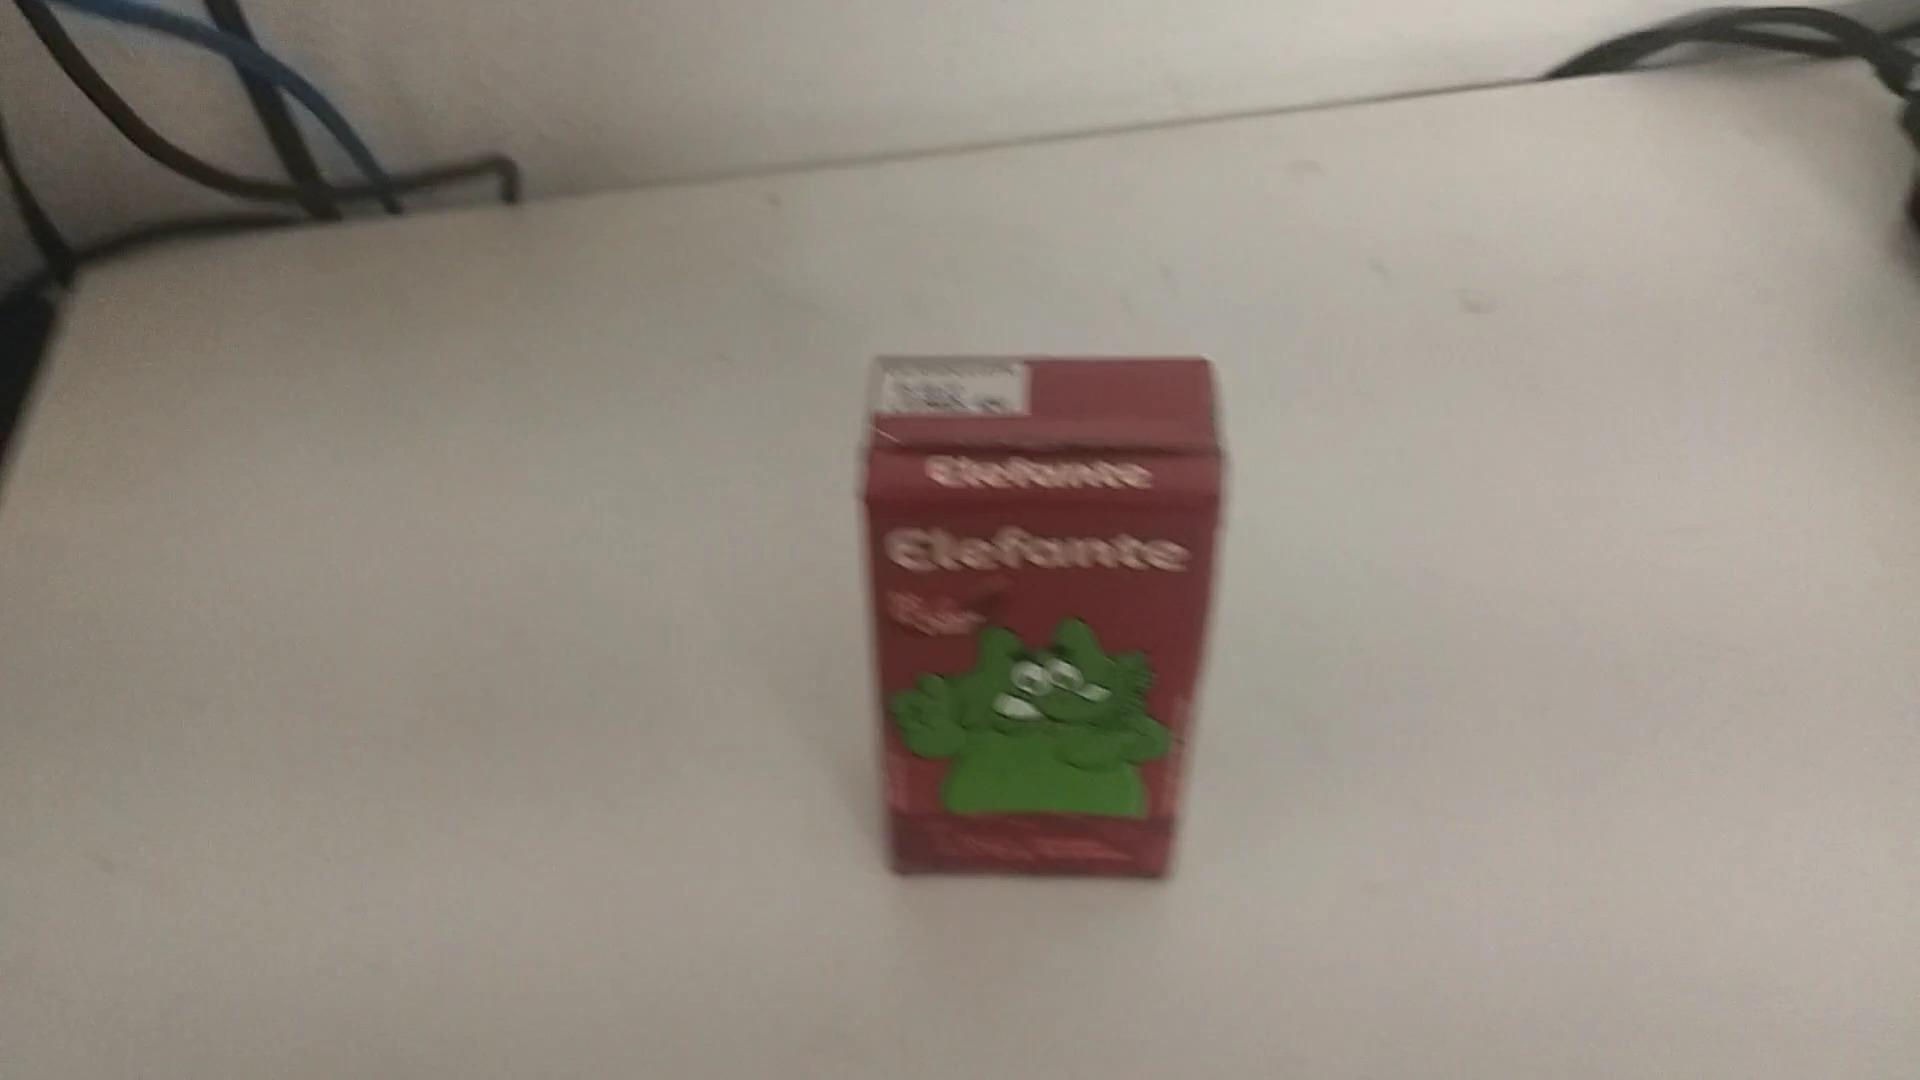tomate: (851, 347, 1234, 880)
